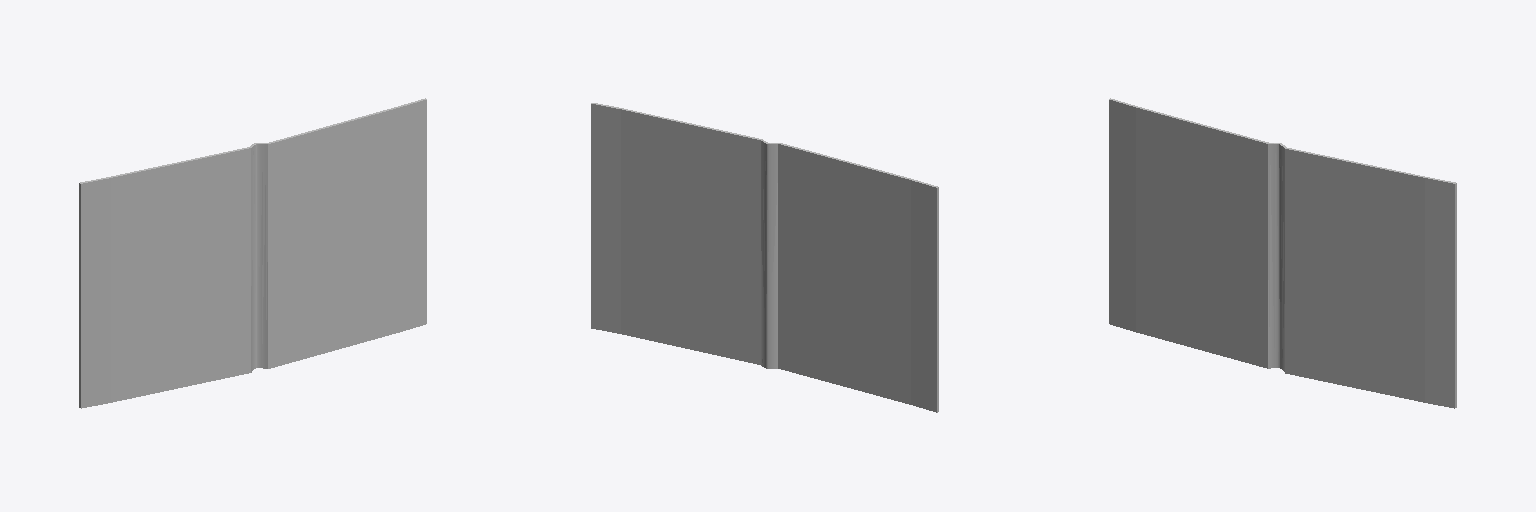
File: note.obj
The picture shows the model from 3 angles: view 1: azimuth 30°, elevation 25°; view 2: azimuth 150°, elevation 25°; view 3: azimuth 330°, elevation 25°; orthographic projection.
Visible parts, largest first — view 1: Cube; view 2: Cube; view 3: Cube.
Boxes of the visible parts, x1,y1,x2,y2 form: Cube: [79, 98, 426, 408]; Cube: [591, 103, 938, 412]; Cube: [1109, 98, 1456, 408].
Bounding box in the file's own units: 4 × 2.49 × 0.1465.